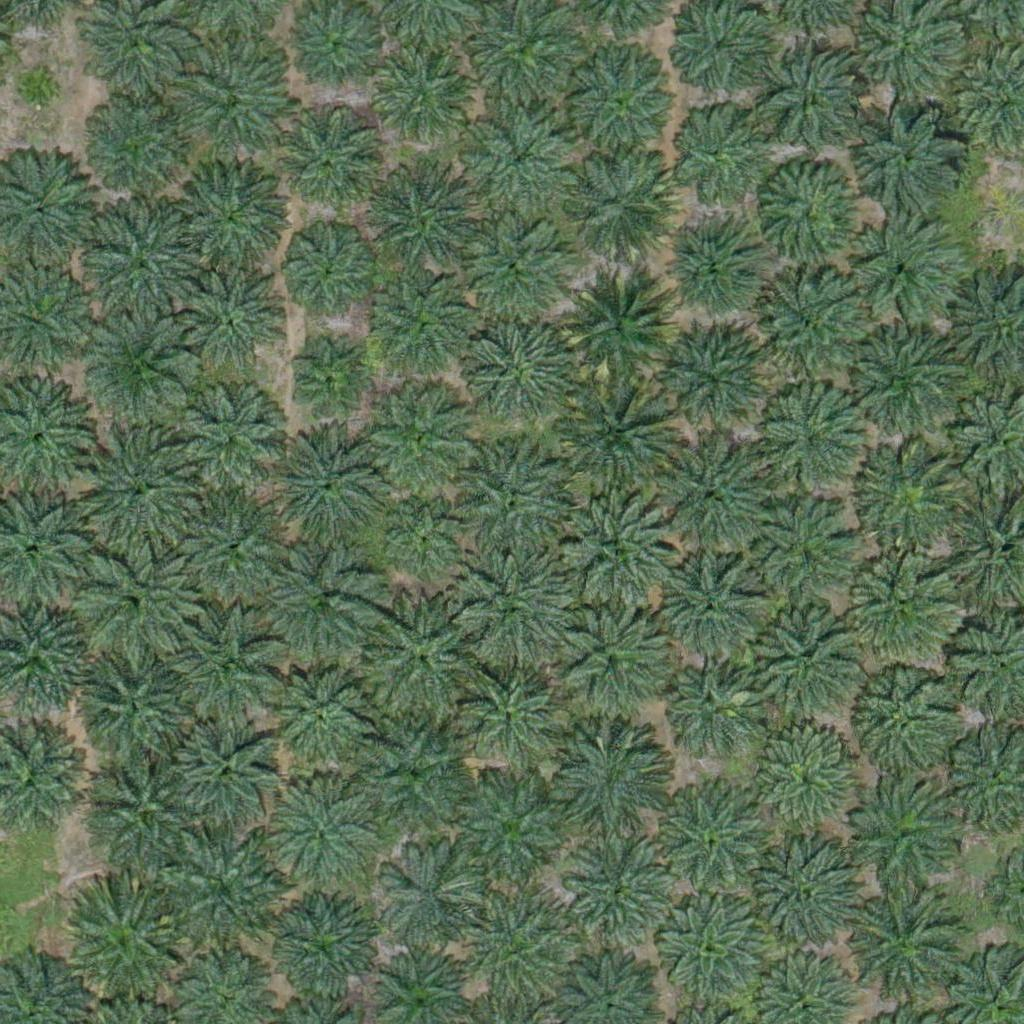Kelapa_Sawit: (81, 205, 206, 331), (74, 426, 199, 552), (70, 541, 195, 667), (366, 597, 491, 723), (452, 444, 577, 570), (61, 885, 186, 1010), (457, 319, 570, 433), (368, 162, 481, 276), (175, 492, 288, 606), (172, 385, 285, 499), (654, 895, 767, 1009), (848, 332, 961, 445), (753, 41, 866, 154), (754, 270, 867, 383), (83, 313, 196, 426), (171, 717, 284, 830), (168, 613, 281, 726), (267, 897, 380, 1010), (458, 549, 571, 662), (552, 726, 665, 839), (555, 606, 668, 719), (560, 502, 673, 615), (657, 785, 770, 898), (176, 42, 288, 156), (267, 433, 379, 547), (269, 547, 381, 661), (357, 726, 469, 840), (452, 777, 564, 891), (566, 836, 678, 950), (849, 218, 961, 331), (851, 101, 963, 214), (659, 329, 771, 442), (565, 48, 677, 161), (561, 148, 673, 261), (566, 273, 678, 386), (462, 103, 574, 216), (467, 1, 579, 114), (173, 157, 285, 270), (79, 655, 191, 768), (86, 753, 198, 866), (168, 840, 280, 953), (456, 897, 568, 1010), (561, 378, 673, 491), (656, 438, 768, 551), (652, 547, 764, 660), (744, 841, 856, 954), (750, 724, 862, 837), (751, 610, 863, 723), (849, 780, 961, 893), (844, 894, 956, 1007), (760, 161, 860, 262), (665, 220, 765, 321), (668, 106, 768, 207), (182, 271, 282, 372), (87, 95, 187, 196), (275, 782, 375, 883), (369, 395, 469, 496), (662, 651, 762, 752), (750, 494, 850, 595), (760, 385, 860, 486), (860, 443, 960, 544), (852, 560, 952, 661), (855, 669, 955, 770), (466, 214, 566, 314), (372, 52, 472, 152), (374, 274, 474, 374), (268, 665, 368, 765), (375, 850, 475, 950), (461, 661, 561, 761), (285, 230, 373, 318), (287, 125, 375, 213), (295, 5, 382, 93), (288, 345, 363, 421), (390, 504, 465, 580), (13, 66, 63, 116)
